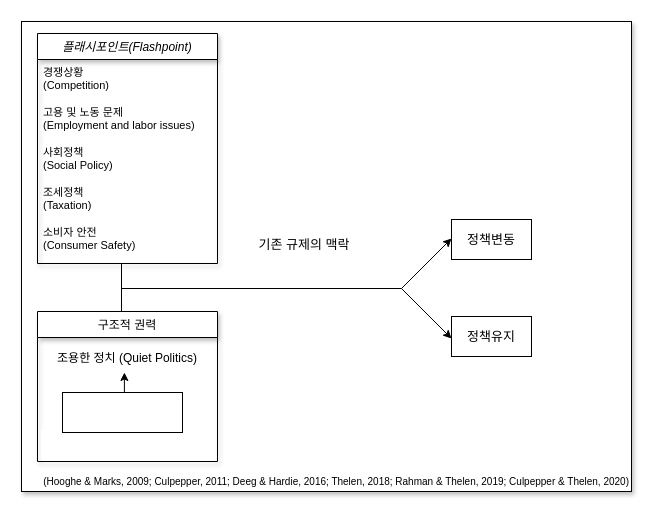
Image size: 655x516. Some labels were removed from this diagram. The centre of each missing label's shape, as x and y in pixels:
+ 참을성 있는 자본 (Patient Capital): the point at 124,444
소비자 동맹: the point at 122,412
